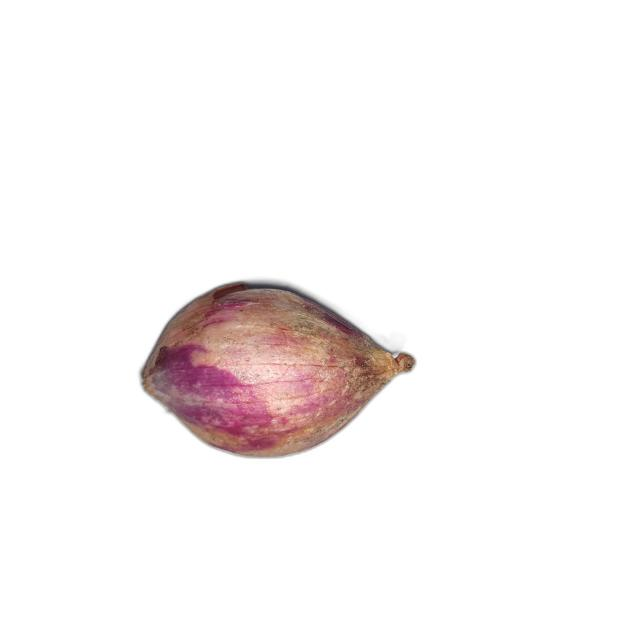onion: (140, 283, 417, 458)
